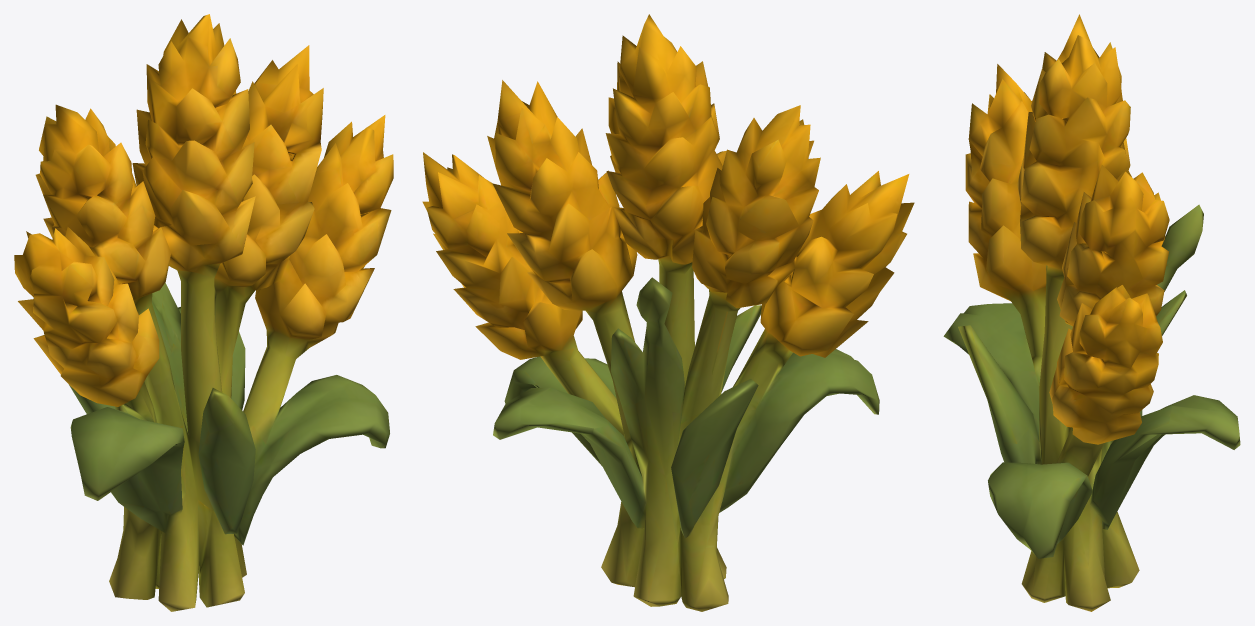
The model's file is crop-wheat.glb.
The picture shows the model from 3 angles, left to right: view 1: azimuth 30°, elevation 25°; view 2: azimuth 150°, elevation 25°; view 3: azimuth 270°, elevation 25°; orthographic projection.
Visible parts, largest first — view 1: tripo_node_0a11229a-b4eb-4893-be9f-5b6a638ce665; view 2: tripo_node_0a11229a-b4eb-4893-be9f-5b6a638ce665; view 3: tripo_node_0a11229a-b4eb-4893-be9f-5b6a638ce665.
Part boxes in pixels (box(x1,y1,x2,y2)): tripo_node_0a11229a-b4eb-4893-be9f-5b6a638ce665: box(14, 14, 393, 611); tripo_node_0a11229a-b4eb-4893-be9f-5b6a638ce665: box(422, 14, 914, 611); tripo_node_0a11229a-b4eb-4893-be9f-5b6a638ce665: box(943, 14, 1240, 611).
Size of the model in its own units: 0.7722 by 1 by 0.4762.
Materials: 1 (1 with a texture image).
